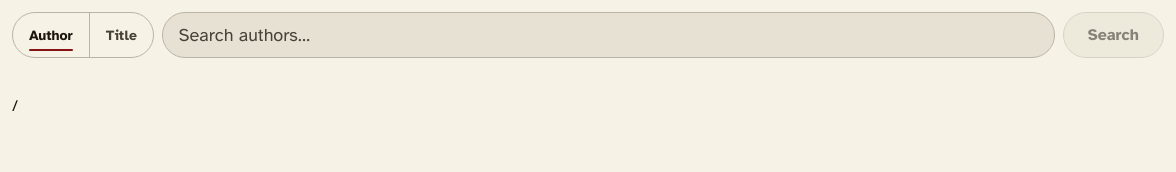
SearchBar (SPEC §9) › picking an author suggestion stays substring → ?authorContains=
The image size is (1176, 172).
Type "Browning" into the dropdown.
click(608, 35); type("Browning")  # box x1=162 y1=12 x2=1055 y2=58
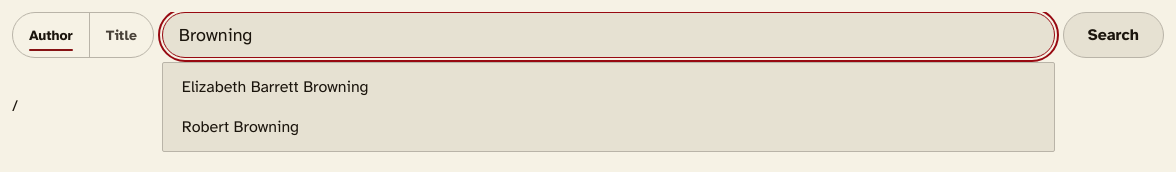
Click the option "Robert Browning".
click(240, 127)  # box x1=182 y1=117 x2=299 y2=137
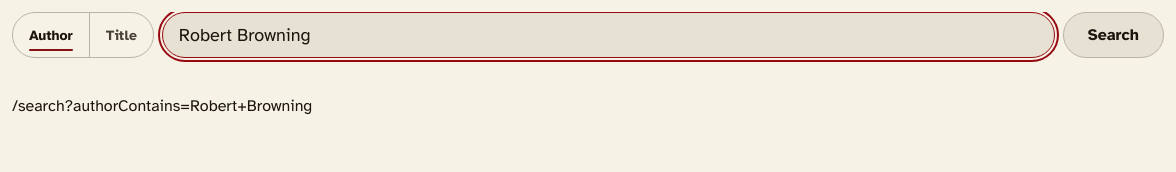
Expected: the text with test id "loc" reads "/search?authorContains=Robert+Browning", x1=12 y1=96 x2=312 y2=116
